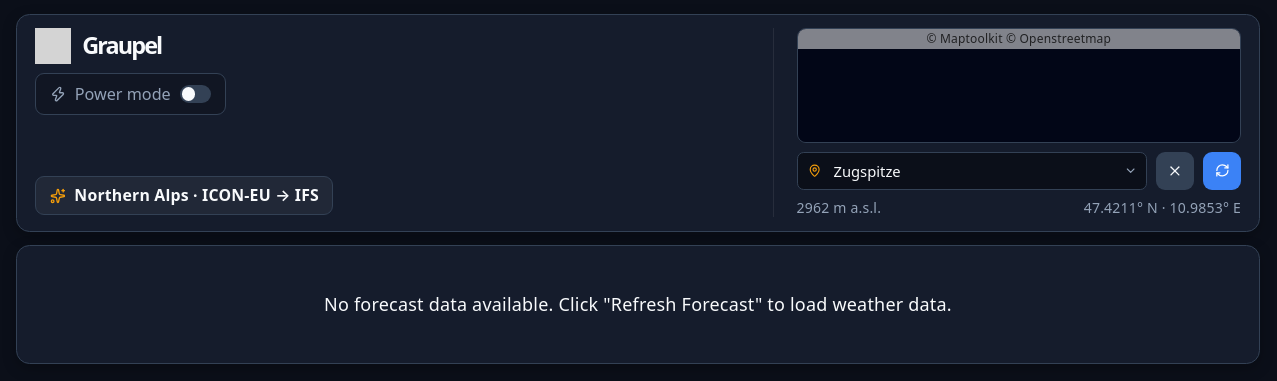
Normal mode (spec §3.3, #138) › resolves a new chain when the location changes
Replace the text in the field with placeholder "Search location..." with "Lausanne" at (972, 171), box [796,152,1146,190]
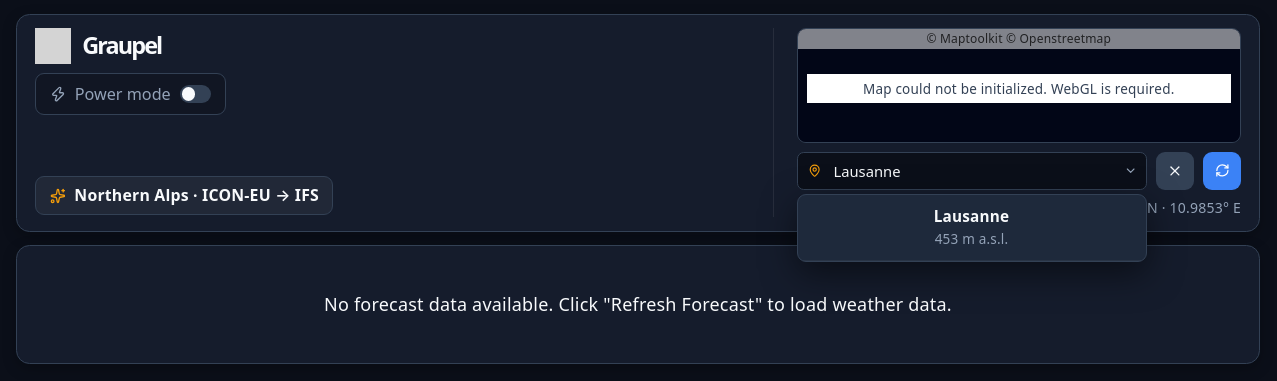
Check: the option with class "dropdown-item" is shown
Click the option with class "dropdown-item" at (972, 228), box [798,195,1146,261]
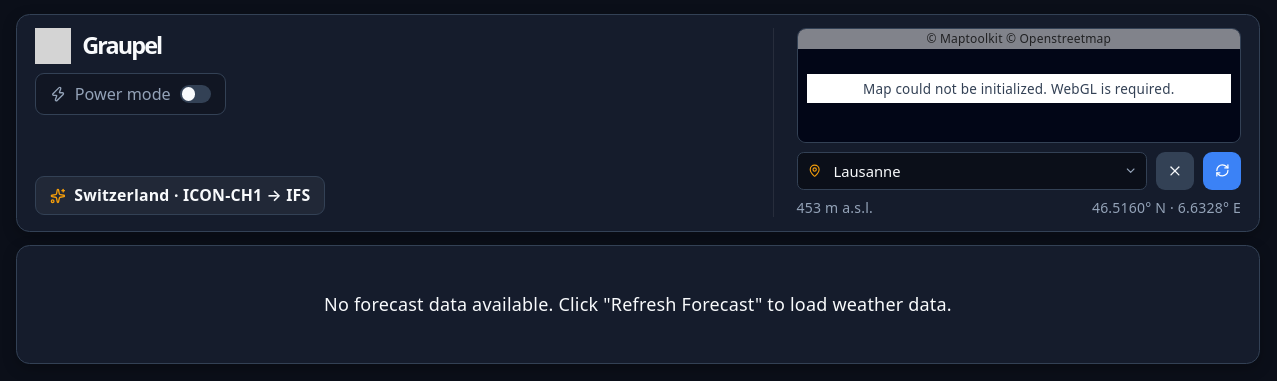
Check: the text "Switzerland · ICON-CH1 → IFS" is shown, box [74,184,310,208]
